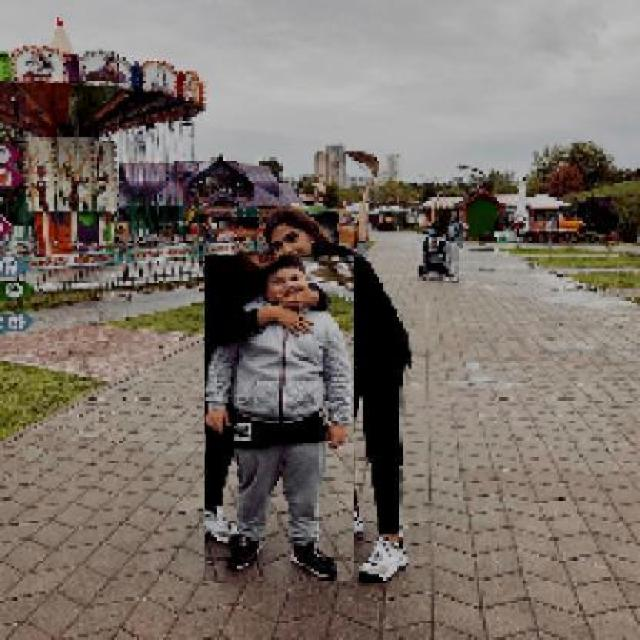child: (203, 256, 354, 582)
